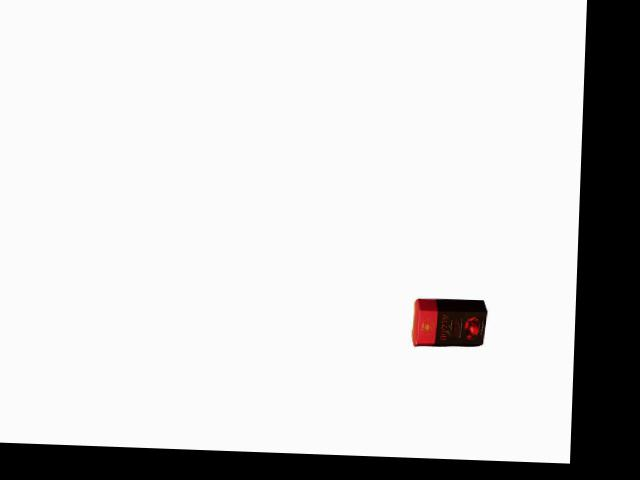chocolate: (409, 295, 494, 349)
